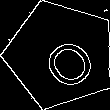O_NW: (26, 21, 95, 88)
